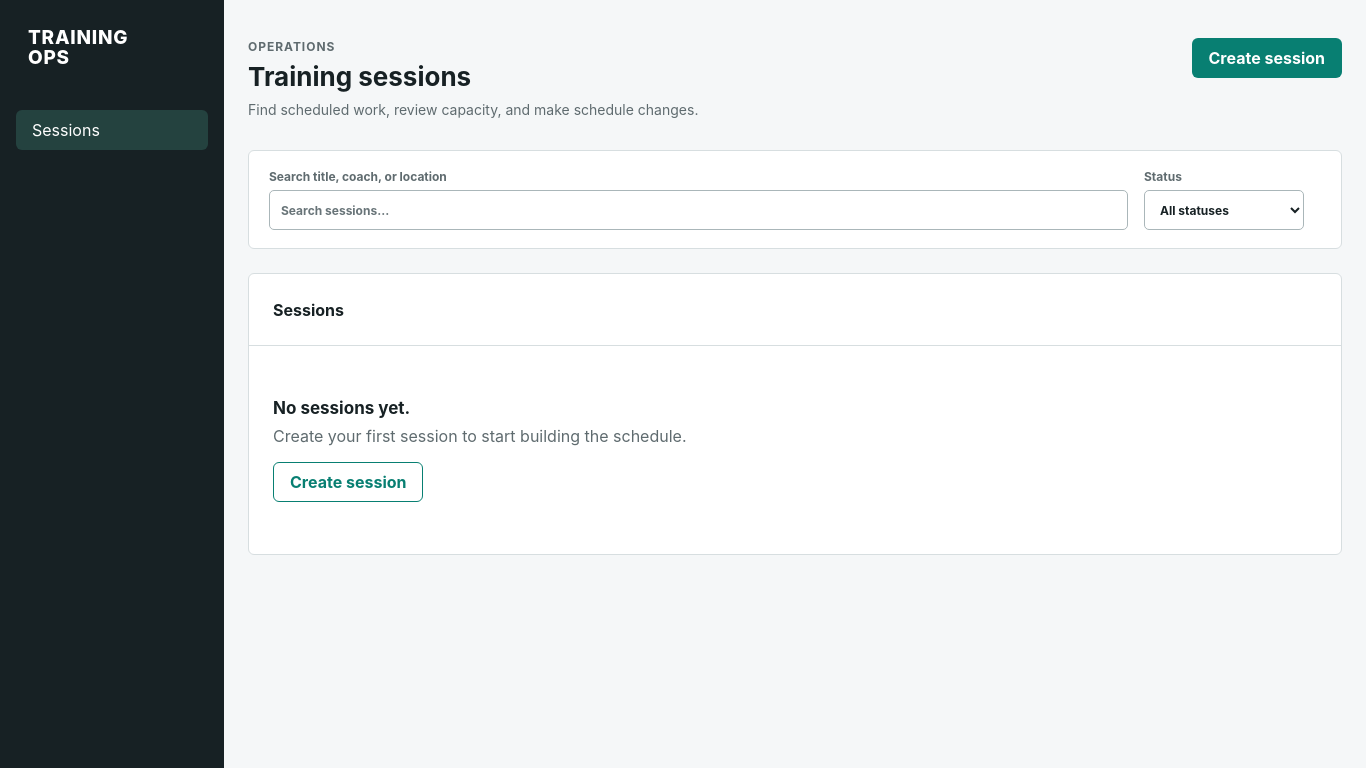
it: TrainingSessionsPage › shows distinct empty and no-match recovery states
This screenshot has width=1366, height=768.
Expected: the heading "No sessions yet." is shown, left=273, top=398, right=410, bottom=418
Type "none" into the search field labelled "Search title, coach, or location" at (698, 210), box left=269, top=190, right=1128, bottom=230
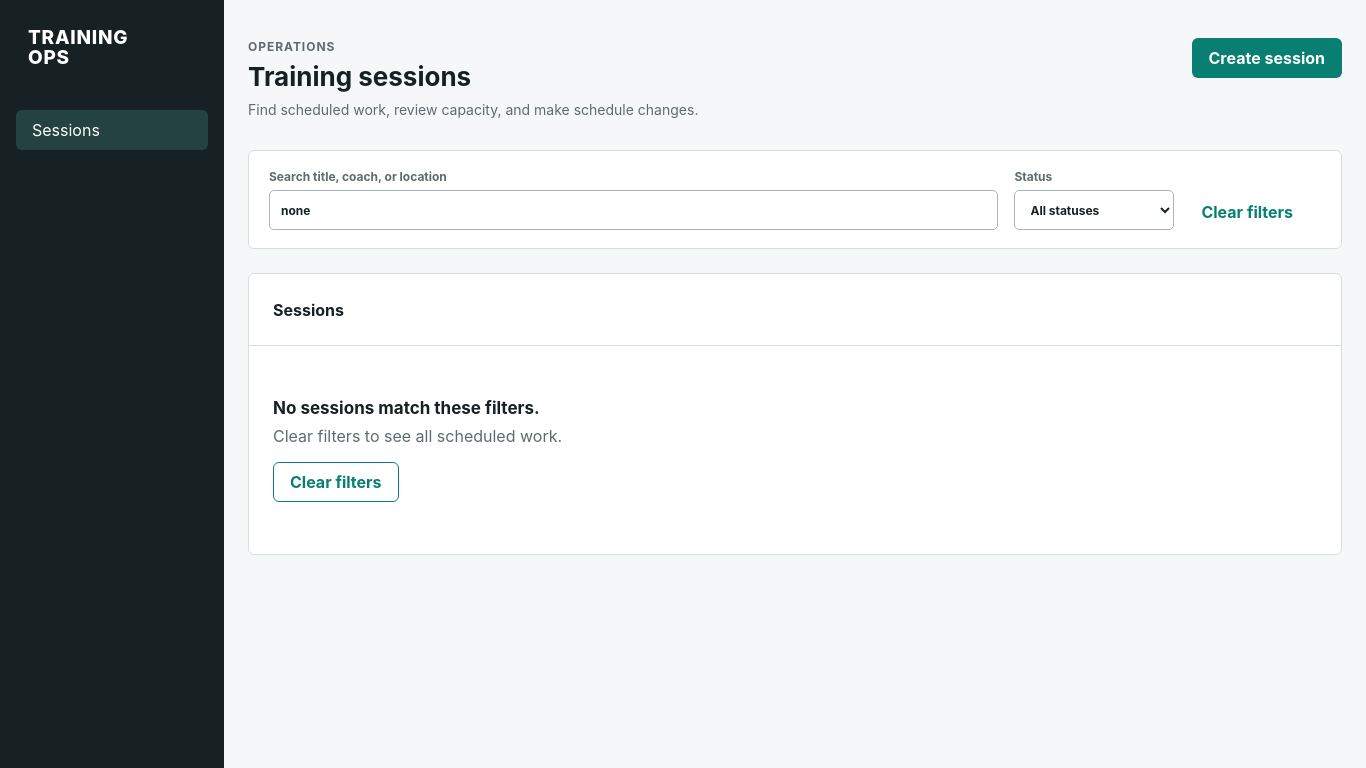
Result: the heading "No sessions match these filters." is shown at left=273, top=398, right=540, bottom=418
Result: the button "Clear filters" below "Status" is shown at left=1190, top=194, right=1304, bottom=230
